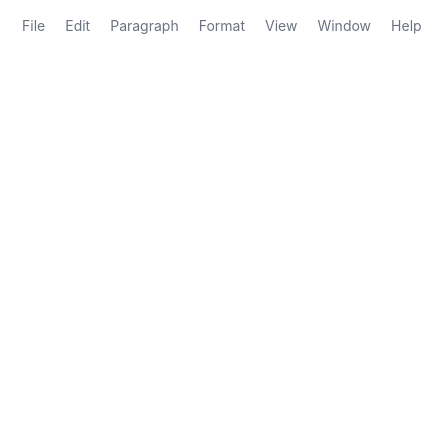
Test: MenuBar › 打开后 hover 平移切换到相邻菜单
Step 1. Click the button "File" → (34,26), box [12,12,55,40]
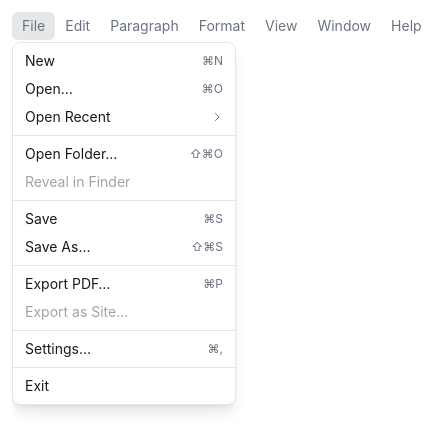
Expected: the text "New" is shown, [25,52,55,69]
Step 2. Hover over the button "Edit" → (78,26), box [55,12,100,40]
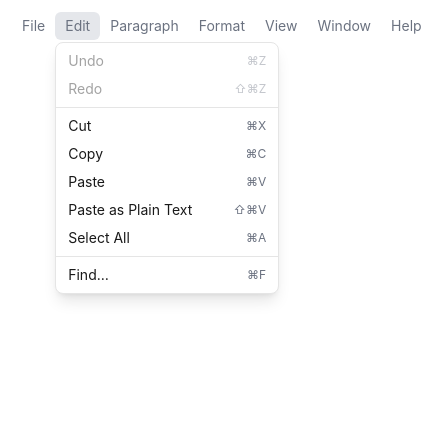
Expected: the menu item "New" is gone
Expected: the text "Undo" is shown, [68,52,104,69]
